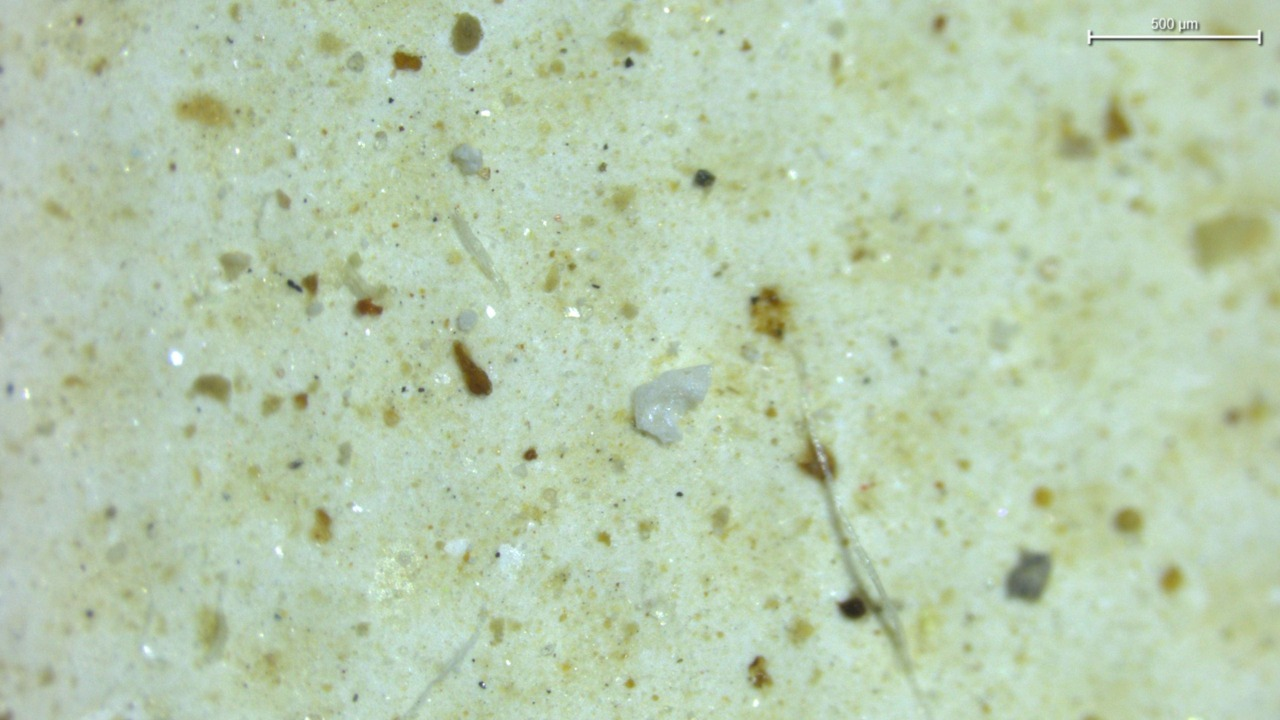microplastic_fragment: (631, 365, 711, 442), (450, 144, 482, 175), (456, 310, 478, 330)
